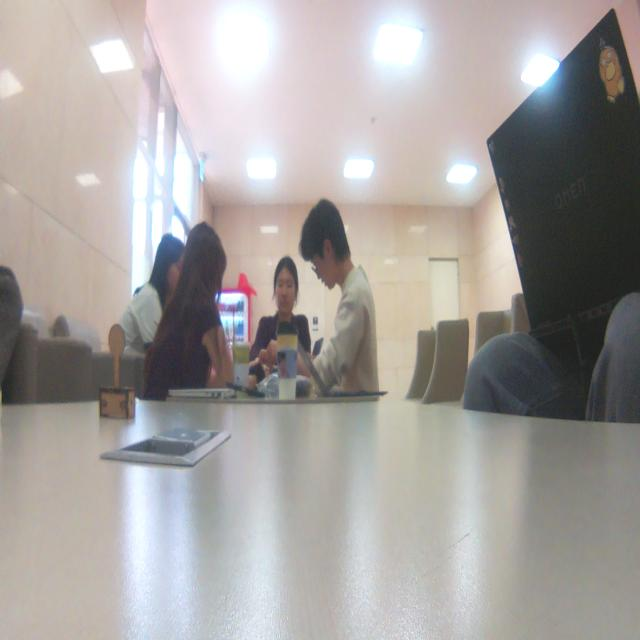target: (99, 324, 137, 420)
